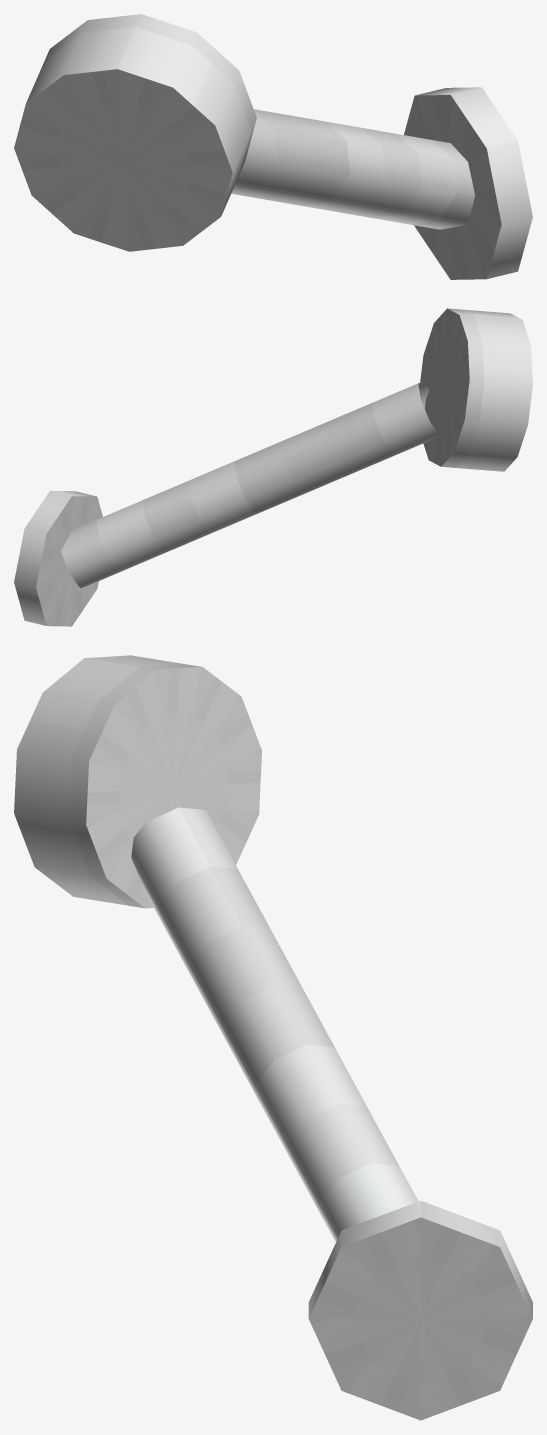
File: nycsignalarm_stub_150.obj
3 renders of one model, top to bottom at view 1: azimuth 30°, elevation 25°; view 2: azimuth 150°, elevation 25°; view 3: azimuth 270°, elevation 25°, orthographic. The views are drawn at different scales.
Visible parts, largest first — view 1: nycsignalarm_stub_150; view 2: nycsignalarm_stub_150; view 3: nycsignalarm_stub_150.
Boxes of the visible parts, bbox=[...] form: nycsignalarm_stub_150: bbox=[14, 14, 532, 279]; nycsignalarm_stub_150: bbox=[14, 308, 532, 626]; nycsignalarm_stub_150: bbox=[14, 655, 532, 1420].
Bounding box in the file's own units: 1.13 × 0.8677 × 0.8099.
